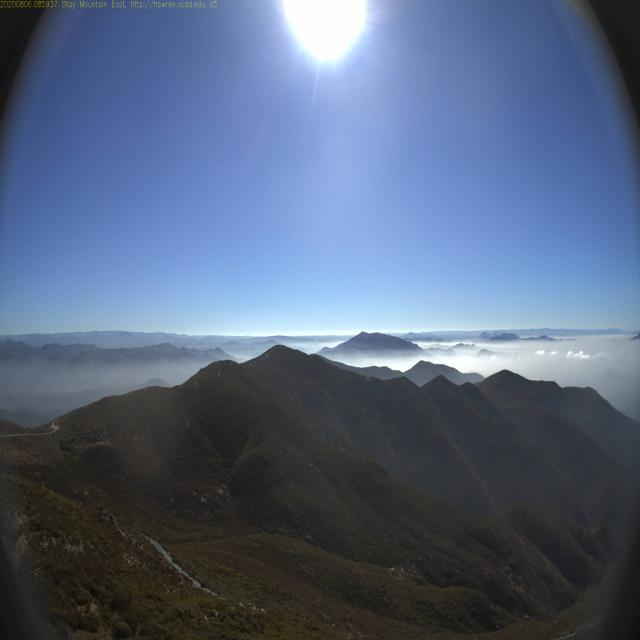smoke: (351, 347, 364, 357)
